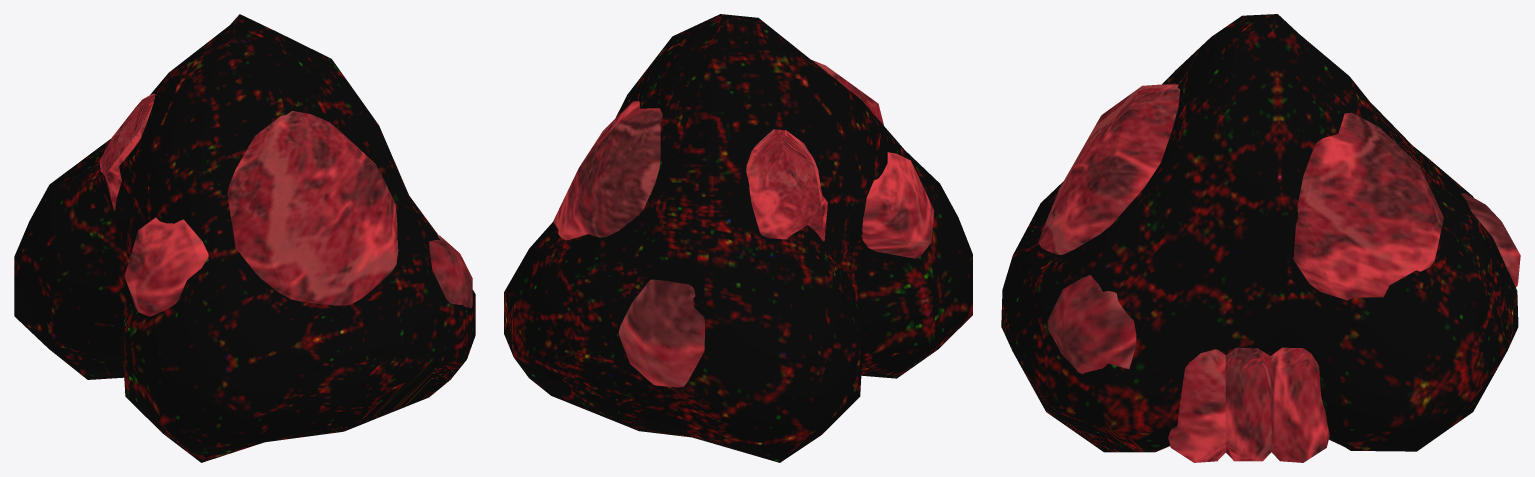
Rendered from fleshmound.glb.
The picture shows the model from 3 angles, left to right: view 1: azimuth 30°, elevation 25°; view 2: azimuth 150°, elevation 25°; view 3: azimuth 270°, elevation 25°; orthographic projection. The views are drawn at different scales.
Parts seen in each view (by area): view 1: fleshmound; view 2: fleshmound; view 3: fleshmound.
Part boxes in pixels (<box>): fleshmound: <box>14,14,475,462</box>; fleshmound: <box>504,14,972,462</box>; fleshmound: <box>1001,14,1520,462</box>.
Bounding box in the file's own units: 4.39 × 4.65 × 5.59.
2 materials, 2 textured.
